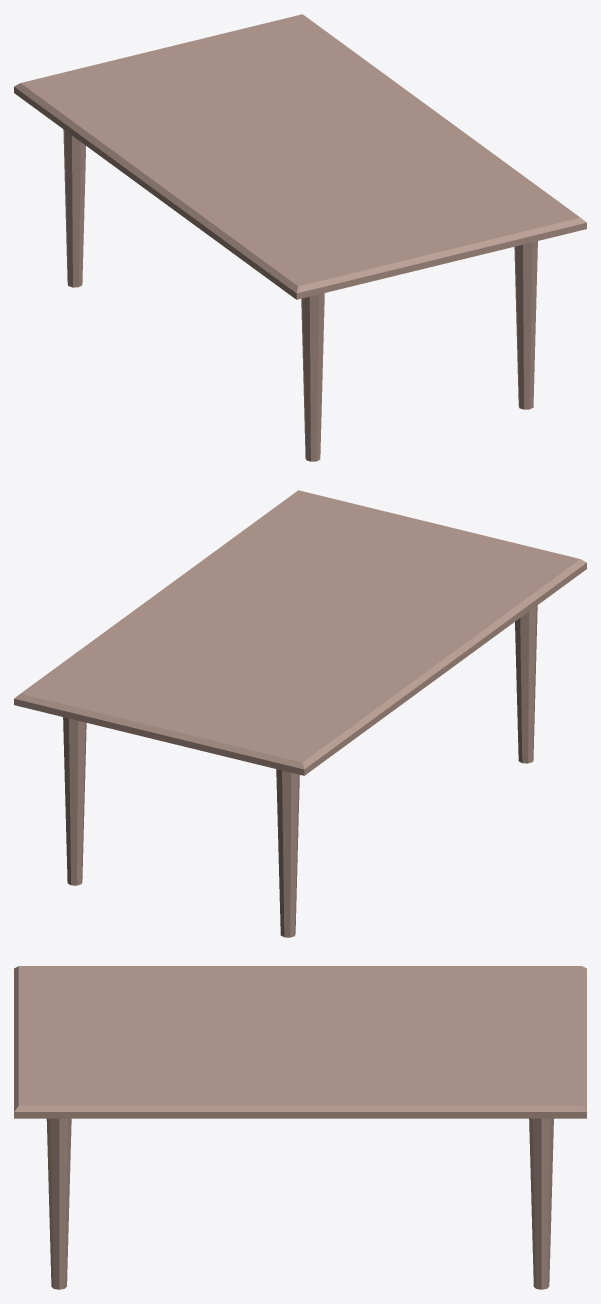
File: Table.gltf
The picture shows the model from 3 angles, top to bottom: view 1: azimuth 30°, elevation 25°; view 2: azimuth 150°, elevation 25°; view 3: azimuth 270°, elevation 25°; orthographic projection.
Parts seen in each view (by area): view 1: Table_Large_Rectangular_01_Circle004; view 2: Table_Large_Rectangular_01_Circle004; view 3: Table_Large_Rectangular_01_Circle004.
Boxes of the visible parts, x1=… form: Table_Large_Rectangular_01_Circle004: x1=14, y1=14, x2=586, y2=461; Table_Large_Rectangular_01_Circle004: x1=14, y1=490, x2=586, y2=937; Table_Large_Rectangular_01_Circle004: x1=14, y1=966, x2=586, y2=1289.
Size of the model in its own units: 11.74 by 7.54 by 19.8.
